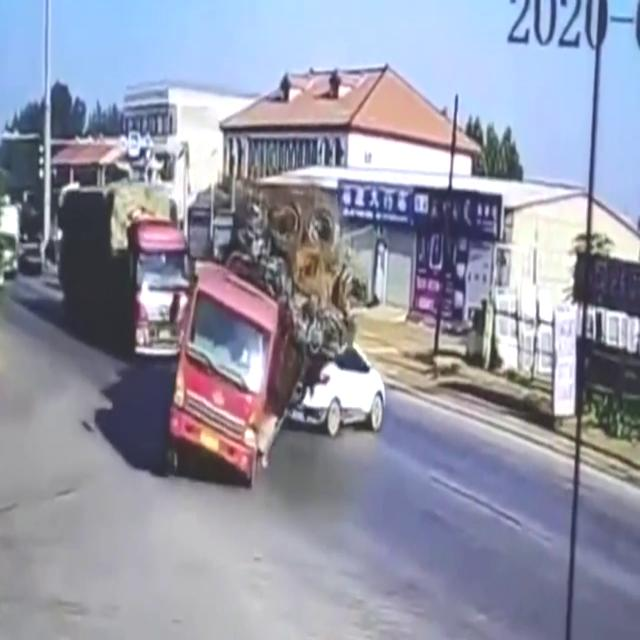accident: (167, 182, 387, 492)
